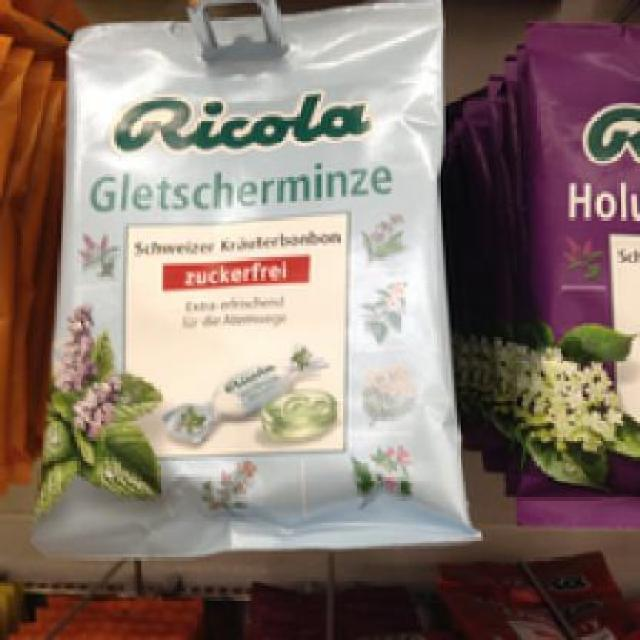Candy: (22, 6, 472, 548), (500, 9, 637, 512)
